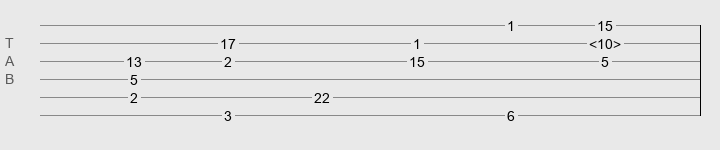1: (413, 36, 421, 46), (507, 18, 515, 28)
13: (126, 54, 142, 64)
15: (409, 54, 425, 64), (597, 18, 613, 28)
17: (220, 36, 236, 46)
2: (130, 90, 138, 100), (224, 54, 232, 64)
22: (314, 90, 330, 100)
3: (224, 108, 232, 118)
5: (130, 72, 138, 82), (601, 54, 609, 64)
6: (507, 108, 515, 118)
harmonic: (589, 36, 621, 46)
